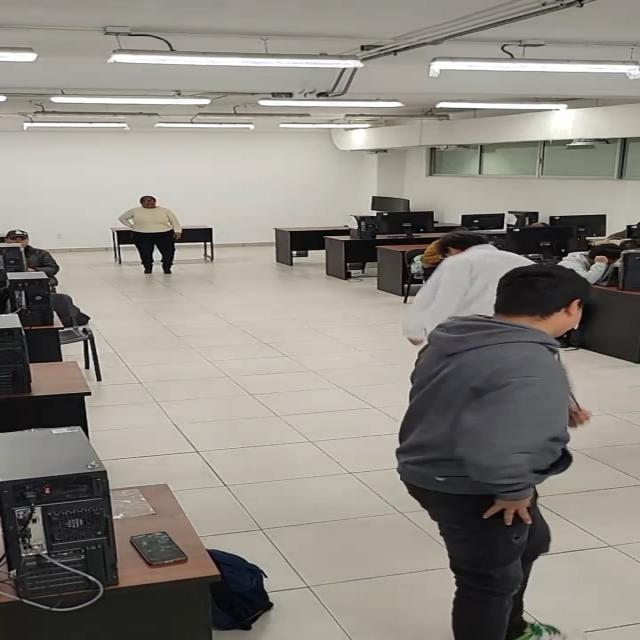Persona: (391, 263, 608, 640), (118, 195, 182, 275)
